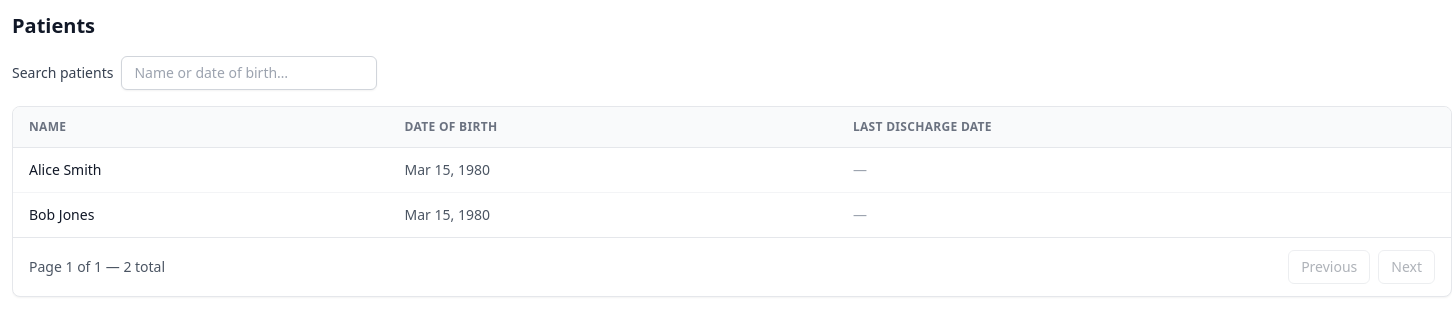
Scenario: 15.10 – Clearing search restores full list (fake timers) › renders full patient list after clearing search
Expected: the text "Alice Smith" is shown, [13, 148, 388, 192]
Expected: the text "Bob Jones" is shown, [13, 192, 388, 237]
// Search narrows to Alice only
Type "Alice" into the search field.
click(249, 73); type("Alice")  # box [121, 56, 377, 90]
Wait 300 ms
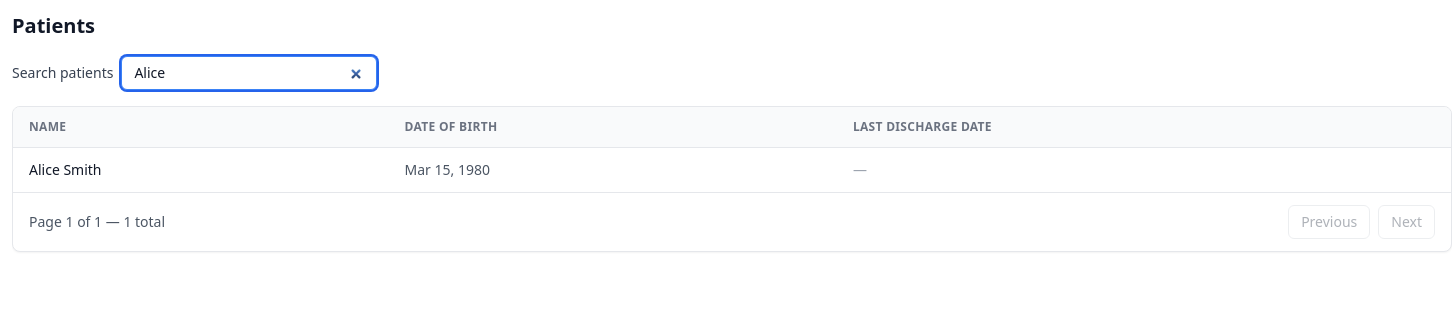
Now the text "Bob Jones" is gone
// Clear restores both patients
Clear the search field at (249, 73), box [121, 56, 377, 90]
Wait 300 ms
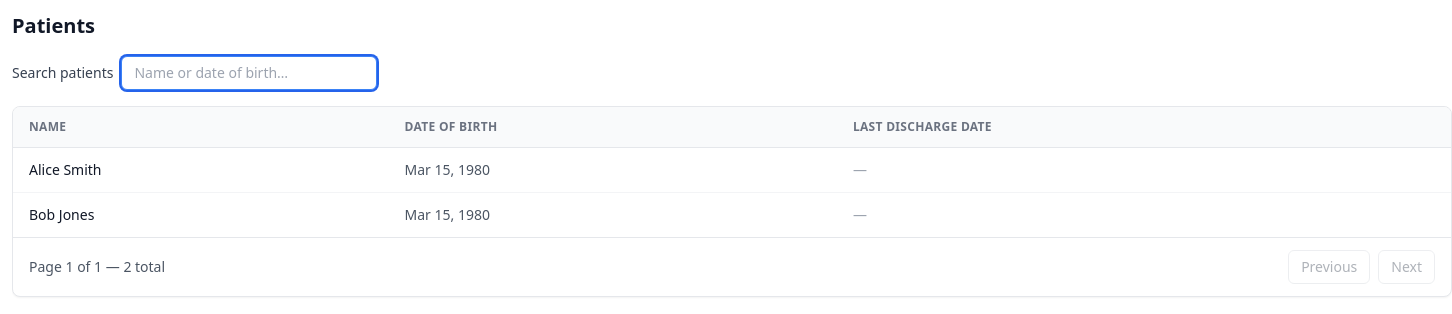
Expected: the text "Alice Smith" is shown, [13, 148, 388, 192]
Now the text "Bob Jones" is shown, box [13, 192, 388, 237]
